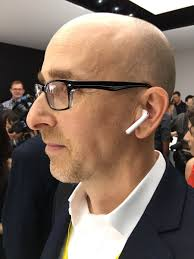earphone: (134, 87, 168, 141)
